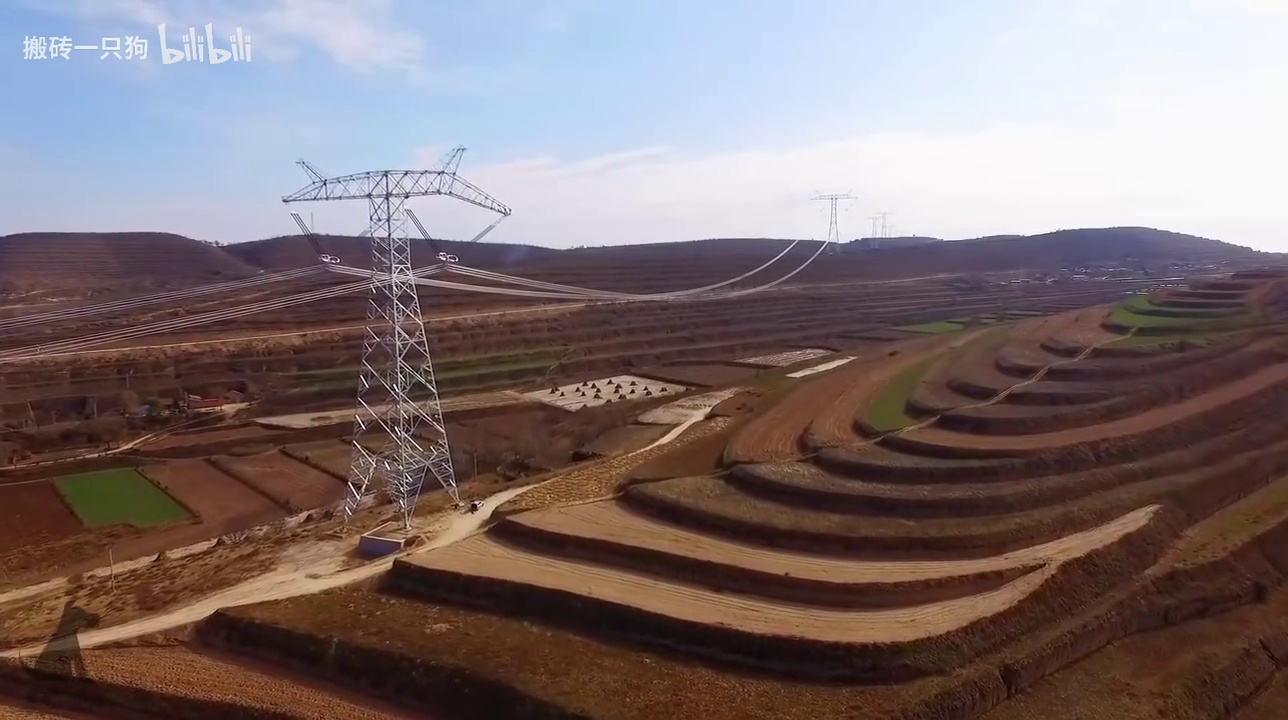tower_body: (268, 128, 529, 539)
tower_foot: (335, 437, 466, 533)
tower_head: (278, 139, 516, 219)
